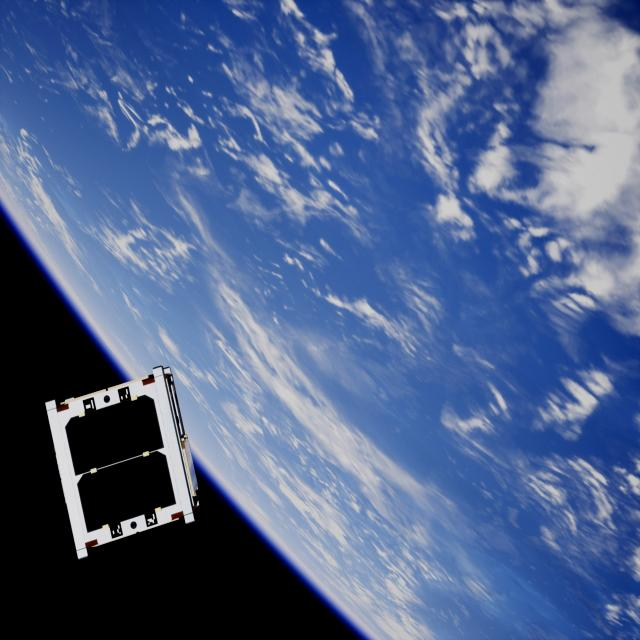medium_debris: (38, 361, 205, 553)
